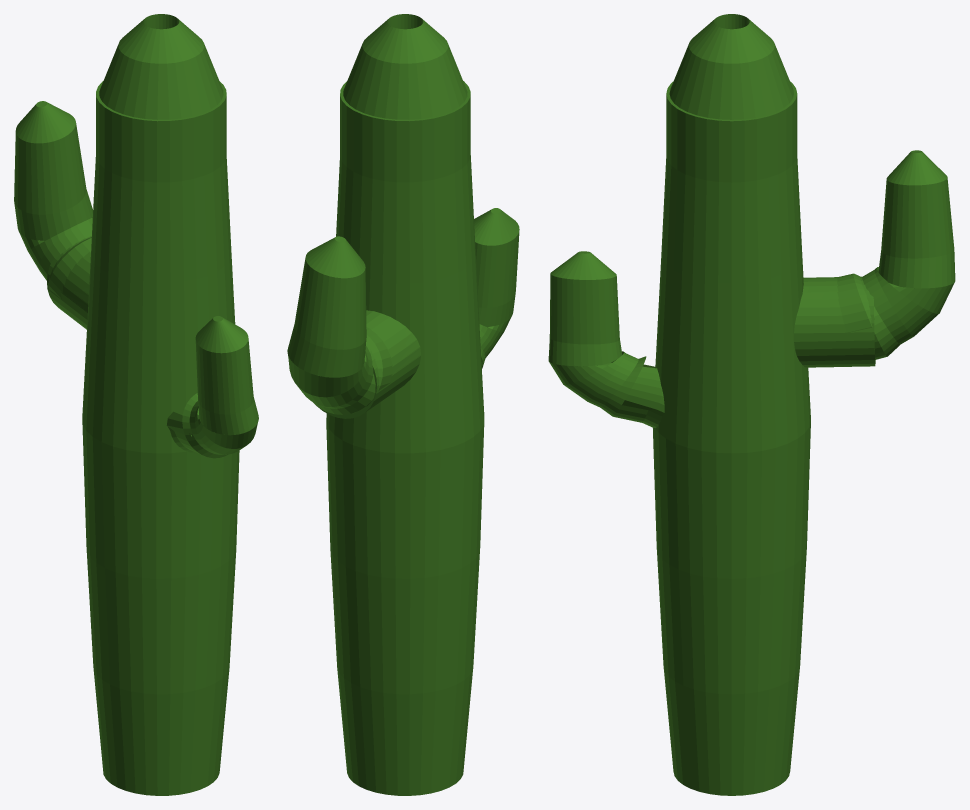
The model's file is cactus.fbx.
3 views of the same model, side by side, from view 1: azimuth 30°, elevation 25°; view 2: azimuth 150°, elevation 25°; view 3: azimuth 270°, elevation 25° (orthographic).
Parts seen in each view (by area): view 1: Cylinder; view 2: Cylinder; view 3: Cylinder.
Boxes of the visible parts, <box> form: Cylinder: <box>14,14,258,795</box>; Cylinder: <box>287,14,519,795</box>; Cylinder: <box>548,14,955,795</box>.
Size of the model in its own units: 1.12 by 5.83 by 2.87.
